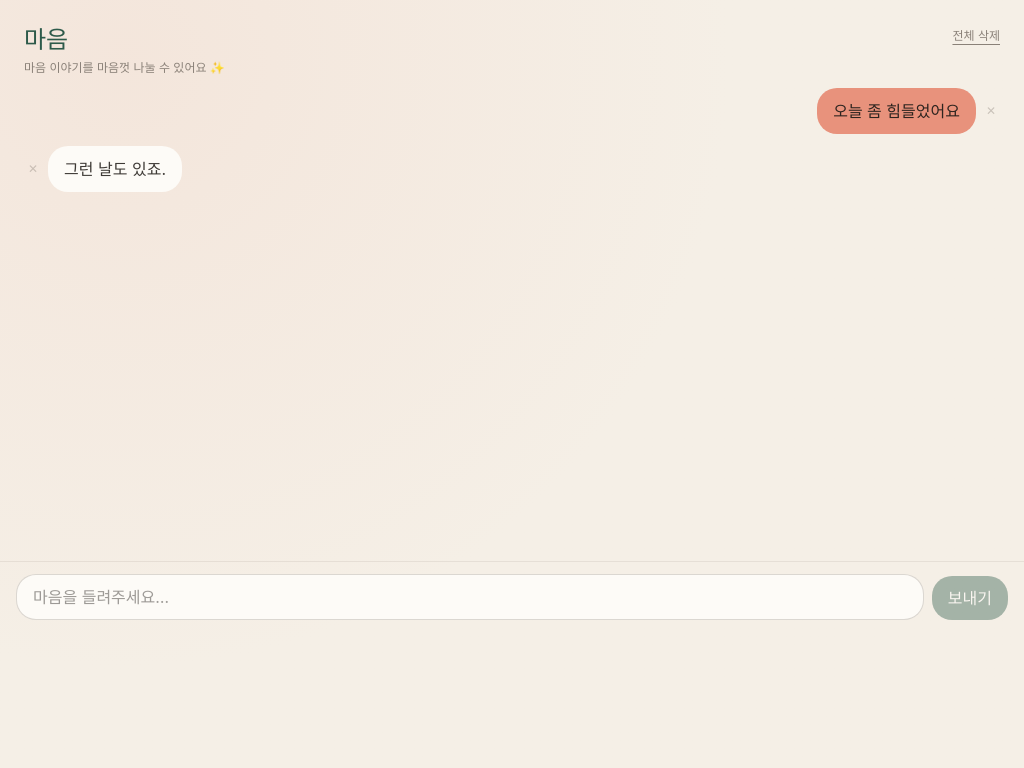
Test case: MindChat — 익명 로컬 기록 › localStorage 기록을 불러와 렌더하고, 메시지 삭제는 즉시 화면·저장소에서 지운다
Expected: the text "오늘 좀 힘들었어요" is shown, top-left (817, 88), bottom-right (976, 134)
What coordinates should you click on to do the following:
click the button named "이 메시지 삭제"
I would click on:
 (991, 111)
Its box is top-left (982, 99), bottom-right (1000, 123).
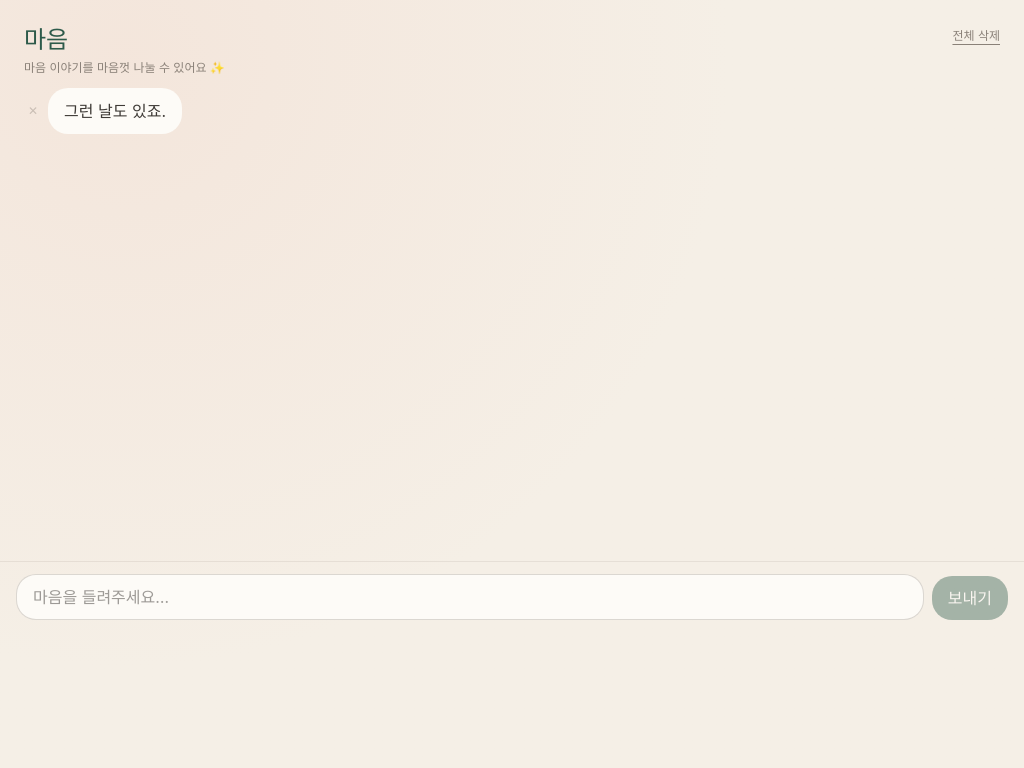
Expected: the text "그런 날도 있죠." is shown, top-left (48, 88), bottom-right (182, 134)
Result: the text "오늘 좀 힘들었어요" is gone
